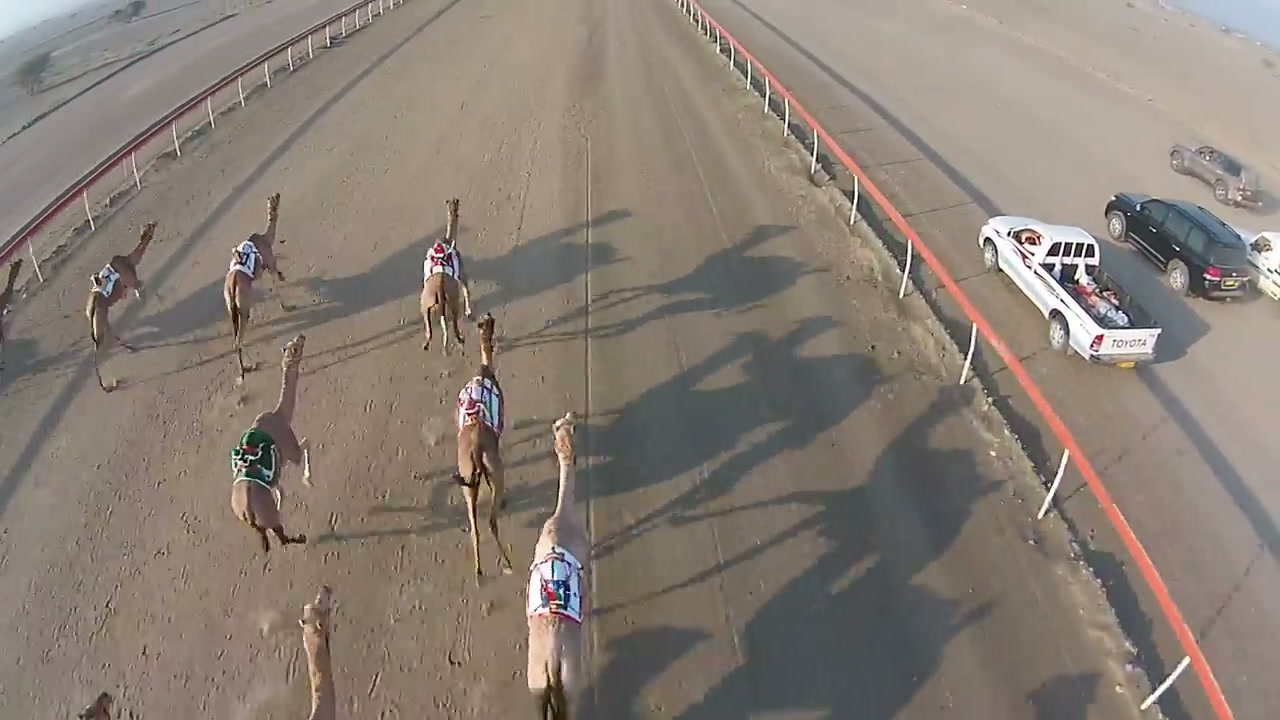animal_foot_print: (335, 351, 491, 719), (244, 502, 344, 719), (115, 488, 209, 677)
